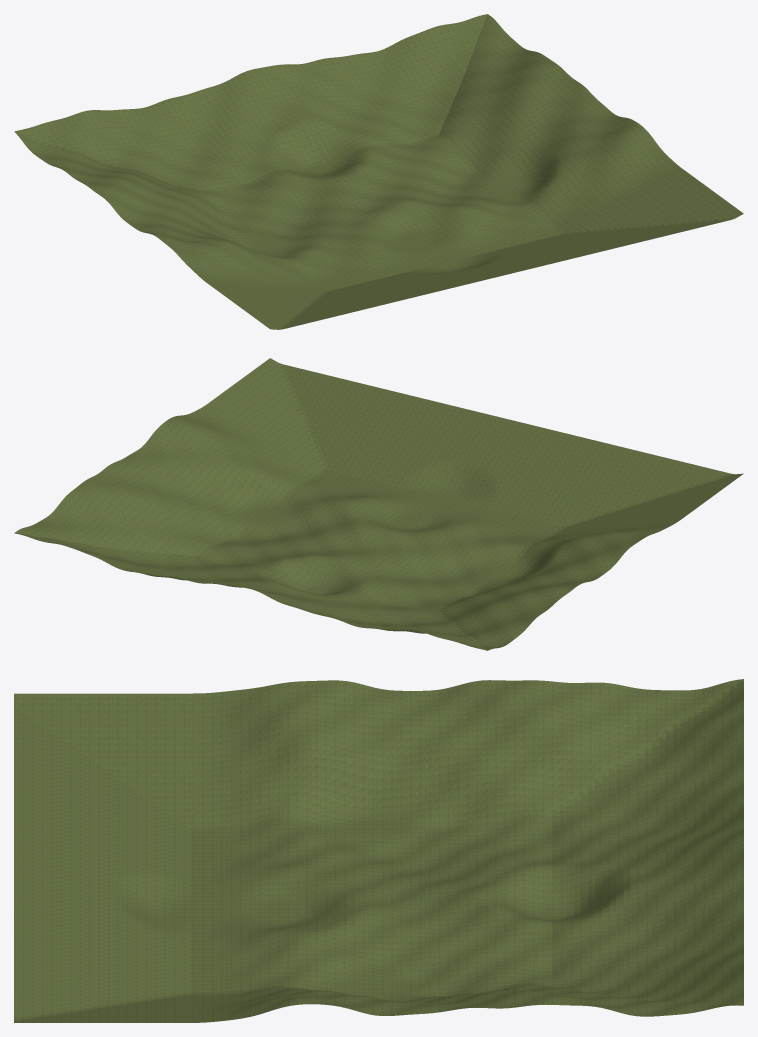
The model's file is campo-bosque.glb.
3 views of the same model, one above another, from view 1: azimuth 30°, elevation 25°; view 2: azimuth 150°, elevation 25°; view 3: azimuth 270°, elevation 25° (orthographic). The views are drawn at different scales.
Visible parts, largest first — view 1: campo-bosque-0; view 2: campo-bosque-0; view 3: campo-bosque-0.
Part boxes in pixels (left/top/right/bottom): campo-bosque-0: left=14, top=14, right=743, bottom=329; campo-bosque-0: left=14, top=358, right=743, bottom=650; campo-bosque-0: left=14, top=679, right=743, bottom=1022.
Bounding box in the file's own units: 330 × 36.41 × 309.
Materials: 1 (1 with a texture image).
